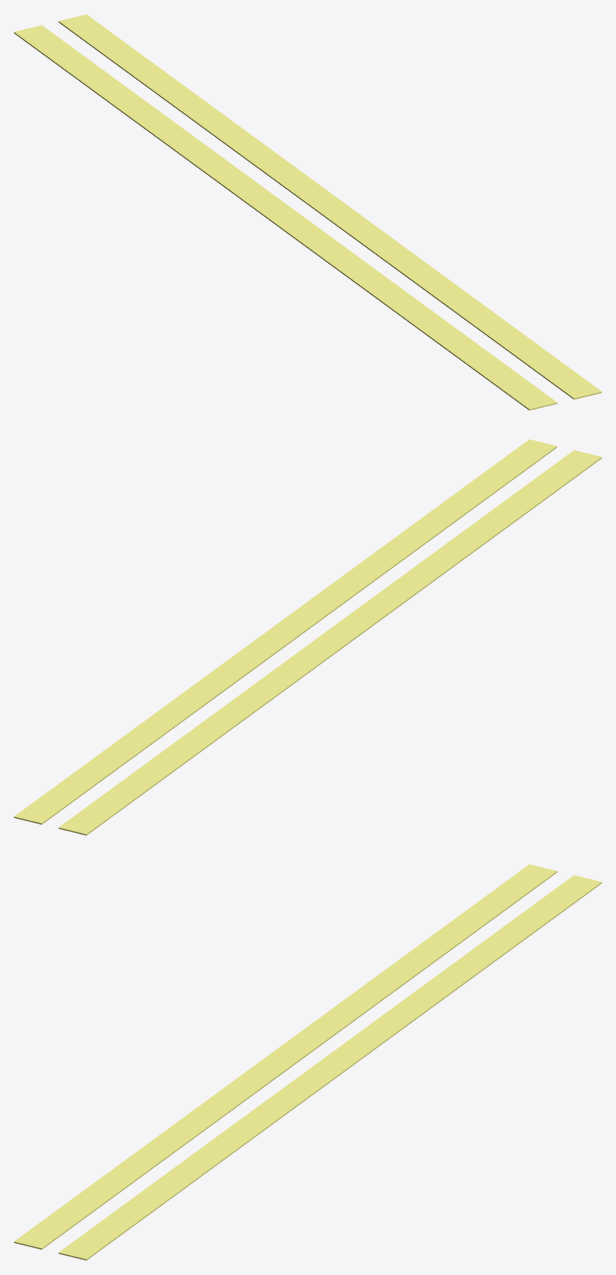
The model's file is marking_centerline_double_yellow.glb.
3 views of the same model, one above another, from view 1: azimuth 30°, elevation 25°; view 2: azimuth 150°, elevation 25°; view 3: azimuth 330°, elevation 25° (orthographic).
Visible parts, largest first — view 1: line_left, line_right; view 2: line_left, line_right; view 3: line_left, line_right.
Part boxes in pixels (bbox=[...]): line_left: bbox=[14, 25, 557, 410]; line_right: bbox=[58, 14, 601, 399]; line_left: bbox=[58, 450, 601, 835]; line_right: bbox=[14, 439, 557, 824]; line_left: bbox=[14, 864, 557, 1249]; line_right: bbox=[58, 875, 601, 1260].
Bounding box in the file's own units: 0.26 × 0.005 × 3.2.
